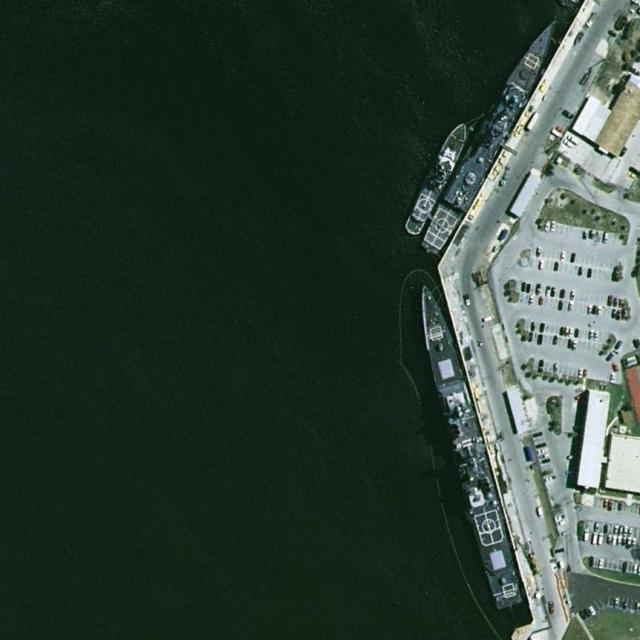Cruiser: (409, 279, 524, 610)
Frigate: (416, 11, 568, 261)
Other Ship: (401, 117, 475, 239)
